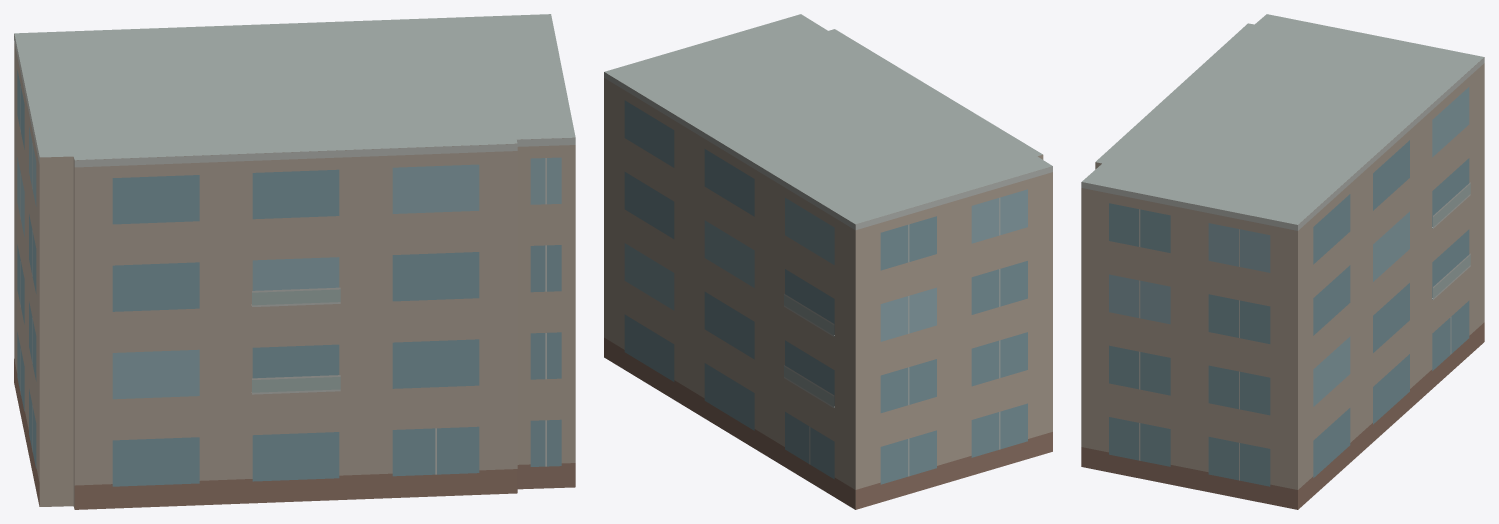
Rendered from survey-upis-32534646.glb.
3 renders of one model, left to right at view 1: azimuth 30°, elevation 25°; view 2: azimuth 150°, elevation 25°; view 3: azimuth 270°, elevation 25°, orthographic. The views are drawn at different scales.
Parts seen in each view (by area): view 1: survey-upis-32534646.tmp; view 2: survey-upis-32534646.tmp; view 3: survey-upis-32534646.tmp.
Boxes of the visible parts, bbox=[...] form: survey-upis-32534646.tmp: bbox=[14, 14, 575, 509]; survey-upis-32534646.tmp: bbox=[604, 14, 1052, 509]; survey-upis-32534646.tmp: bbox=[1081, 14, 1484, 509].
Size of the model in its own units: 18.59 by 11.7 by 15.01.
